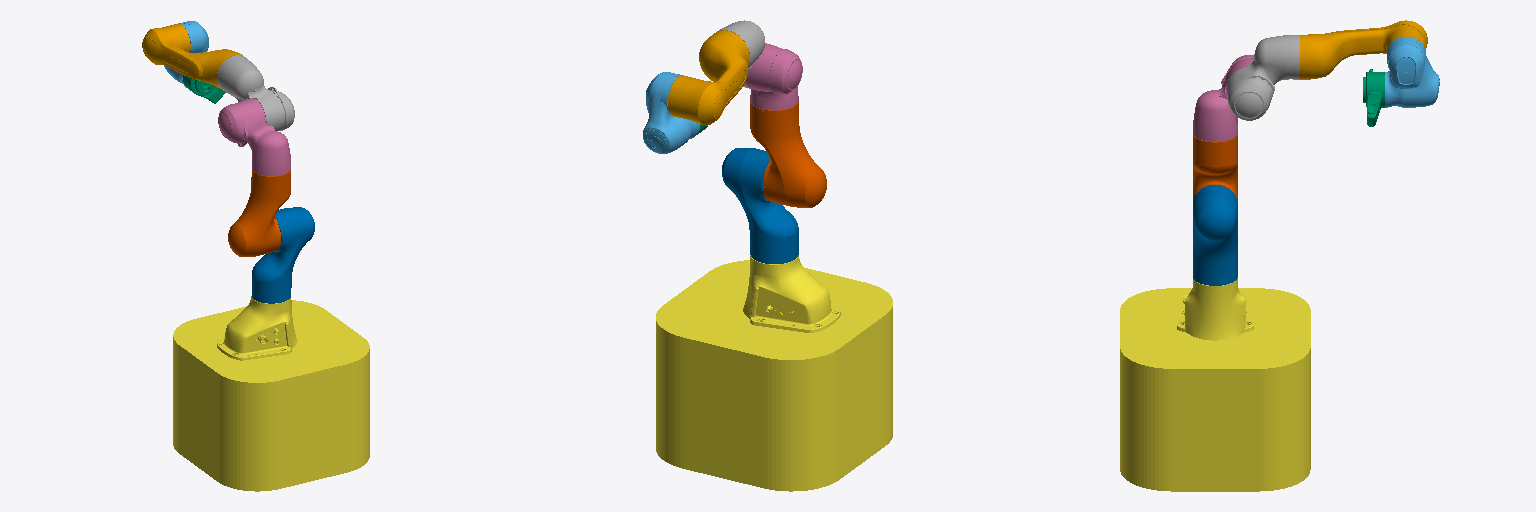
robot.urdf — mmp_panda:
<?xml version='1.0' encoding='utf-8'?>

<robot name="mmp_panda" version="1.0">

  <!-- GROUND LINK -->
  <link name ="ground_link">
    <inertial>
      <origin xyz="0.0 0.0 0.0" rpy="0 0 0" />
      <mass value="0.001" />
      <inertia ixx="1E-06" ixy="0.0" ixz="0.0" iyy="1E-06" iyz="0.0" izz="1E-06" />
    </inertial>
  </link>


  <!-- MOBILE BASE LINKS -->
  <link name ="base_x">
    <inertial>
      <origin xyz="0.0 0.0 0.0" rpy="0 0 0" />
      <mass value="0.001" />
      <inertia ixx="1E-06" ixy="0.0" ixz="0.0" iyy="1E-06" iyz="0.0" izz="1E-06" />
    </inertial>
  </link>

  <link name = "base_y">
    <inertial>
      <origin xyz="0.0 0.0 0.0" rpy="0 0 0" />
      <mass value = "0.001" />
      <inertia ixx="1E-06" ixy="0.0" ixz="0.0" iyy="1E-06" iyz="0.0" izz="1E-06" />
    </inertial>
  </link>

  <!-- MOBILE BASE + LINK 0 OF PANDA ARM -->
  <link name = "base_link">
    <inertial>
      <origin xyz="0.0 0.0 0.1757" rpy="0 0 0" />
      <mass value = "64.6" />
      <inertia ixx="1.721" ixy="0.0" ixz="0.0" iyy="1.712" iyz="0.0" izz="2.030" />
    </inertial>
    <visual>
      <geometry>
        <mesh filename="meshes/panda_BaseCombo.obj" />
      </geometry>
    </visual>
  </link>

  <!-- PANDA ARM LINKS --> 
<!--<link name="link0">
    <inertial>
      <origin xyz="0 0 0.05" rpy="0 0 0" />
      <mass value="4" />
      <inertia ixx="0.4" iyy="0.4" izz="0.4" ixy="0" ixz="0" iyz="0" />
    </inertial>
    <visual>
      <geometry>
        <mesh filename="../panda/meshes/visual/link0.obj"/>
      </geometry>
    </visual>
<!      <collision>
        <geometry>
          <mesh filename="../panda/meshes/collision/link0.obj"/>
        </geometry>
      </collision> 
  </link> -->
  <link name="link1">
    <inertial>
      <origin xyz="0 0 -0.07" rpy="0 -0 0" />
      <mass value="4" />
      <inertia ixx="0.3" iyy="0.3" izz="0.3" ixy="0" ixz="0" iyz="0" />
    </inertial>
    <visual>
      <geometry>
        <mesh filename="../panda/meshes/visual/link1.obj"/>
      </geometry>
    </visual>
    <!-- <collision>
      <geometry>
        <mesh filename="../panda/meshes/collision/link1.obj"/>
      </geometry>
    </collision> -->
  </link>
  <link name="link2">
    <inertial>
      <origin xyz="0 -0.1 0" rpy="0 -0 0" />
      <mass value="3" />
      <inertia ixx="0.3" iyy="0.3" izz="0.3" ixy="0" ixz="0" iyz="0" />
    </inertial>
    <visual>
      <geometry>
        <mesh filename="../panda/meshes/visual/link2.obj"/>
      </geometry>
    </visual>
    <!-- <collision>
      <geometry>
        <mesh filename="../panda/meshes/collision/link2.obj"/>
      </geometry>
    </collision> -->
  </link>
  <link name="link3">
    <inertial>
      <origin xyz="0.04 0 -0.05" rpy="0 -0 0" />
      <mass value="3" />
      <inertia ixx="0.2" iyy="0.2" izz="0.2" ixy="0" ixz="0" iyz="0" />
    </inertial>
    <visual>
      <geometry>
        <mesh filename="../panda/meshes/visual/link3.obj"/>
      </geometry>
    </visual>
    <!-- <collision>
      <geometry>
        <mesh filename="../panda/meshes/collision/link3.obj"/>
      </geometry>
    </collision> -->
  </link>
  <link name="link4">
    <inertial>
      <origin xyz="-0.04 0.05 0" rpy="0 -0 0" />
      <mass value="3" />
      <inertia ixx="0.2" iyy="0.2" izz="0.2" ixy="0" ixz="0" iyz="0" />
    </inertial>
    <visual>
      <geometry>
        <mesh filename="../panda/meshes/visual/link4.obj"/>
      </geometry>
    </visual>
<!--       <collision>
      <geometry>
        <mesh filename="../panda/meshes/collision/link4.obj"/>
      </geometry>
    </collision> -->
  </link>
  <link name="link5">
    <inertial>
      <origin xyz="0 0 -0.15" rpy="0 -0 0" />
      <mass value="3" />
      <inertia ixx="0.2" iyy="0.2" izz="0.2" ixy="0" ixz="0" iyz="0" />
    </inertial>
    <visual>
      <geometry>
        <mesh filename="../panda/meshes/visual/link5.obj"/>
      </geometry>
    </visual>
<!--       <collision>
      <geometry>
        <mesh filename="../panda/meshes/collision/link5.obj"/>
      </geometry>
    </collision> -->
  </link>
  <link name="link6">
    <inertial>
      <origin xyz="0.06 0 0" rpy="0 -0 0" />
      <mass value="2" />
      <inertia ixx="0.1" iyy="0.1" izz="0.1" ixy="0" ixz="0" iyz="0" />
    </inertial>
    <visual>
      <geometry>
        <mesh filename="../panda/meshes/visual/link6.obj"/>
      </geometry>
    </visual>
    <!-- <collision>
      <geometry>
        <mesh filename="../panda/meshes/collision/link6.obj"/>
      </geometry>
    </collision> -->
  </link>
  <link name="link7">
    <inertial>
      <origin xyz="0 0 0.17" rpy="0 -0 0" />
      <mass value="3.0" />
      <inertia ixx="0.09" iyy="0.05" izz="0.07" ixy="0" ixz="0" iyz="0" />
    </inertial>
    <visual>
      <geometry>
        <mesh filename="../panda/meshes/visual/link7.obj"/>
      </geometry>
    </visual>
    <!-- <collision>
      <geometry>
        <mesh filename="../panda/meshes/collision/link7.obj"/>
      </geometry>
    </collision> -->
  </link>


  <!-- JOINTS -->
  <joint name = "base_prismatic_x" type = "prismatic">
    <origin xyz = "0 0 0" rpy = "0 0 0"/> 
    <parent link = "ground_link" />
    <child link= "base_x"/>
    <axis xyz = "1 0 0" />
    <limit effort="87" lower="-2.8973" upper="2.9873" velocity="2.1750" />
  </joint>

  <joint name = "base_prismatic_y" type = "prismatic">
    <origin xyz = "0 0 0" rpy = "0 0 0"/> 
    <parent link = "base_x" />
    <child link= "base_y"/>
    <axis xyz = "0 1 0" />
    <limit effort="87" lower="-2.8973" upper="2.9873" velocity="2.1750" />
  </joint>

  <joint name = "base_revolute" type = "revolute">
    <origin xyz = "0 0 0.0" rpy = "0 0 0"/> 
    <parent link = "base_y" />
    <child link= "base_link"/>
    <axis xyz = "0 0 1" />
    <limit effort="87" lower="-2.8973" upper="2.8973" velocity="2.1750" />
  </joint>
<!--
  <joint name = "base_prismatic_link0" type = "prismatic">
    <origin xyz = "0 0 0.33" rpy = "0 0 0"/> 
    <parent link = "base_link" />
    <child link= "link0"/>
    <axis xyz = "0 0 1" />
    <limit effort="87" lower="-2.8973" upper="2.8973" velocity="2.1750" />
  </joint>
-->
  <joint name="joint1" type="revolute">
      <safety_controller k_position="100.0" k_velocity="40.0" soft_lower_limit="-2.8973" soft_upper_limit="2.8973"/>
      <origin rpy="0 0 1.5708" xyz="0 0 0.333"/>
      <parent link="base_link"/>
      <child link="link1"/>
      <axis xyz="0 0 1"/>
      <calibration falling="-80.0" />
      <limit effort="87" lower="-2.8973" upper="2.8973" velocity="2.1750"/>
  </joint>

  <joint name="joint2" type="revolute">
      <safety_controller k_position="100.0" k_velocity="40.0" soft_lower_limit="-1.7628" soft_upper_limit="1.7628"/>
      <origin rpy="-1.57079632679 0 0" xyz="0 0 0"/>
      <parent link="link1"/>
      <child link="link2"/>
      <axis xyz="0 0 1"/>
      <calibration falling="-45.0" />
      <limit effort="87" lower="-1.7628" upper="1.7628" velocity="2.1750"/>
  </joint>

  <joint name="joint3" type="revolute">
      <safety_controller k_position="100.0" k_velocity="40.0" soft_lower_limit="-2.8973" soft_upper_limit="2.8973"/>
      <origin rpy="1.57079632679 0 0" xyz="0 -0.316 0"/>
      <parent link="link2"/>
      <child link="link3"/>
      <axis xyz="0 0 1"/>
      <limit effort="87" lower="-2.8973" upper="2.8973" velocity="2.1750"/>
  </joint>

  <joint name="joint4" type="revolute">
      <safety_controller k_position="100.0" k_velocity="40.0" soft_lower_limit="-3.0718" soft_upper_limit="-0.0698"/>
      <origin rpy="1.57079632679 0 0" xyz="0.0825 0 0"/>
      <parent link="link3"/>
      <child link="link4"/>
      <axis xyz="0 0 1"/>
      <calibration falling="-125.0" />
      <limit effort="87" lower="-3.0718" upper="-0.0698" velocity="2.1750"/>
  </joint>

  <joint name="joint5" type="revolute">
      <safety_controller k_position="100.0" k_velocity="40.0" soft_lower_limit="-2.8973" soft_upper_limit="2.8973"/>
      <origin rpy="-1.57079632679 0 0" xyz="-0.0825 0.384 0"/>
      <parent link="link4"/>
      <child link="link5"/>
      <axis xyz="0 0 1"/>
      <limit effort="12" lower="-2.8973" upper="2.8973" velocity="2.6100"/>
  </joint>

  <joint name="joint6" type="revolute">
      <safety_controller k_position="100.0" k_velocity="40.0" soft_lower_limit="-0.0175" soft_upper_limit="3.7525"/>
      <origin rpy="1.57079632679 0 0" xyz="0 0 0"/>
      <parent link="link5"/>
      <child link="link6"/>
      <axis xyz="0 0 1"/>
      <calibration falling="80.0" />
      <limit effort="12" lower="-0.0175" upper="3.7525" velocity="2.6100"/>
  </joint>

  <joint name="joint7" type="revolute">
      <safety_controller k_position="100.0" k_velocity="40.0" soft_lower_limit="-2.8973" soft_upper_limit="2.8973"/>
      <origin rpy="1.57079632679 0 0" xyz="0.088 0 0"/>
      <parent link="link6"/>
      <child link="link7"/>
      <axis xyz="0 0 1"/>
      <limit effort="12" lower="-2.8973" upper="2.8973" velocity="2.6100"/>
  </joint>
<!--
   <joint name="joint1" type="revolute">
    <origin xyz="0 0 0.48643" rpy="3.1416 2.7629E-18 -3.14" />
    <parent link="base_link" />
    <child link="link1" />
    <axis xyz="0 0 1" />
    <limit lower="-10" upper="10" effort="39" velocity="0.8727" />
  </joint>

  <joint name="joint2" type="revolute">
    <origin xyz="0 0.005375 -0.12838" rpy="1.5708 2.1343E-17 -1.1102E-16" />
    <parent link="link1" />
    <child link="link2" />
    <axis xyz="0 0 1" />
    <calibration falling="-45.0" />
    <limit lower="-10" upper="10" effort="39" velocity="0.8727" />
  </joint>

  <joint name="joint3" type="revolute">
    <origin xyz="0 -0.21038 -0.006375" rpy="-1.5708 1.2326E-32 -2.9122E-16" />
    <parent link="link2" />
    <child link="link3" />
    <axis xyz="0 0 1" />
    <limit lower="-10" upper="10" effort="39" velocity="0.8727" />
  </joint>

  <joint name="joint4" type="revolute">
    <origin xyz="0 0.006375 -0.21038" rpy="1.5708 -6.6954E-17 -1.6653E-16" />
    <parent link="link3" />
    <child link="link4" />
    <axis xyz="0 0 1" />
    <calibration falling="-125.0" />
    <limit lower="-10" upper="10" effort="39" velocity="0.8727" />
  </joint>

  <joint name="joint5" type="revolute">
    <origin xyz="0 -0.20843 -0.006375" rpy="-1.5708 2.2204E-16 -6.373E-17" />
    <parent link="link4" />
    <child link="link5" />
    <axis xyz="0 0 1" />
    <limit lower="-10" upper="10" effort="9" velocity="0.8727" />
  </joint>

  <joint name="joint6" type="revolute">
    <origin xyz="0 0.00017505 -0.10593" rpy="1.5708 9.2076E-28 -8.2157E-15" />
    <parent link="link5" />
    <child link="link6" />
    <axis xyz="0 0 1" />
    <calibration falling="80.0" />
    <limit lower="-10" upper="10" effort="9" velocity="0.8727" />
  </joint>

  <joint name="joint7" type="revolute">
    <origin xyz="0 -0.10593 -0.00017505" rpy="-1.5708 -5.5511E-17 9.6396E-17" />
    <parent link="link6" />
    <child link="link7" />
    <axis xyz="0 0 1" />
    <limit lower="-10" upper="10" effort="9" velocity="0.8727" />
  </joint>
-->
  
</robot> 

--- What the picture shows (computed from the rendered views, not written in the file) ---
The picture shows the robot from 3 angles, left to right: view 1: azimuth 30°, elevation 25°; view 2: azimuth 150°, elevation 25°; view 3: azimuth 270°, elevation 25°; orthographic projection.
Robot: mmp_panda — 11 links, 10 joints (8 revolute, 2 prismatic); root link ground_link; default pose: all joints at 0 but 1 set to mid-range because 0 is outside their limits (joint4 = -1.57).
Visible links, largest first — view 1: base_link, link2, link1, link3, link5, link4, link6, link7; view 2: base_link, link2, link1, link5, link3, link6, link4; view 3: base_link, link1, link4, link5, link6, link3, link2, link7.
Boxes of the visible links, x1,y1,x2,y2 form: base_link: [173, 296, 369, 491]; link2: [228, 171, 290, 256]; link1: [252, 207, 314, 303]; link3: [218, 98, 290, 175]; link5: [142, 24, 242, 88]; link4: [217, 55, 294, 130]; link6: [164, 21, 208, 85]; link7: [183, 75, 225, 103]; base_link: [656, 255, 892, 491]; link2: [750, 101, 826, 207]; link1: [722, 148, 798, 263]; link5: [668, 30, 749, 125]; link3: [746, 43, 802, 110]; link6: [643, 72, 699, 153]; link4: [717, 20, 764, 88]; base_link: [1120, 278, 1310, 491]; link1: [1193, 185, 1237, 285]; link4: [1227, 35, 1299, 120]; link5: [1300, 20, 1427, 79]; link6: [1385, 37, 1439, 107]; link3: [1193, 55, 1253, 141]; link2: [1193, 134, 1237, 201]; link7: [1363, 69, 1384, 126].
Size in the robot's own frame: 0.465 by 0.7807 by 1.12 metres.
Meshes: 8 distinct files referenced, 8 mesh visuals loaded (8 OBJ).
